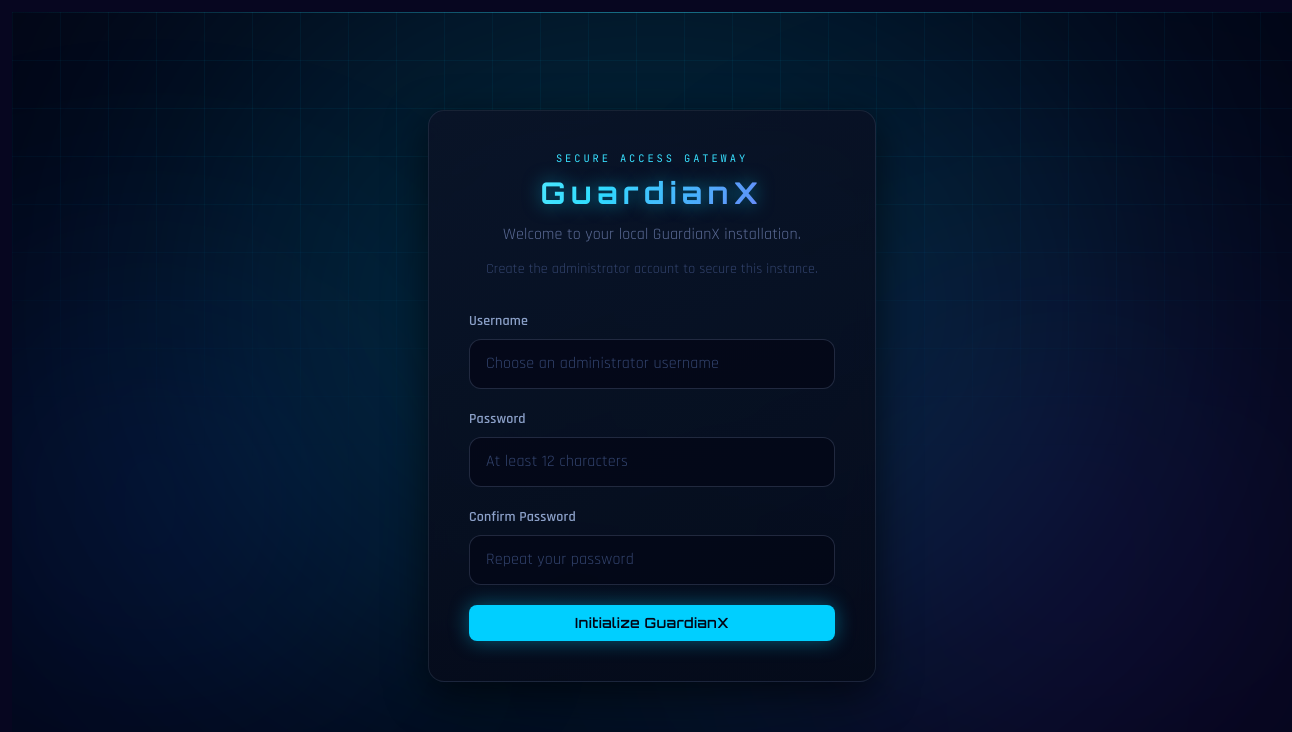
Test: Fresh-install Setup -> Login transition › leaves initialized=false and stays on Setup when setup fails
Check: the button "Initialize GuardianX" is shown, box top-left (469, 605), bottom-right (835, 641)
Type "release-admin" into the field labelled "Username" at [652, 364], box top-left (469, 339), bottom-right (835, 389)
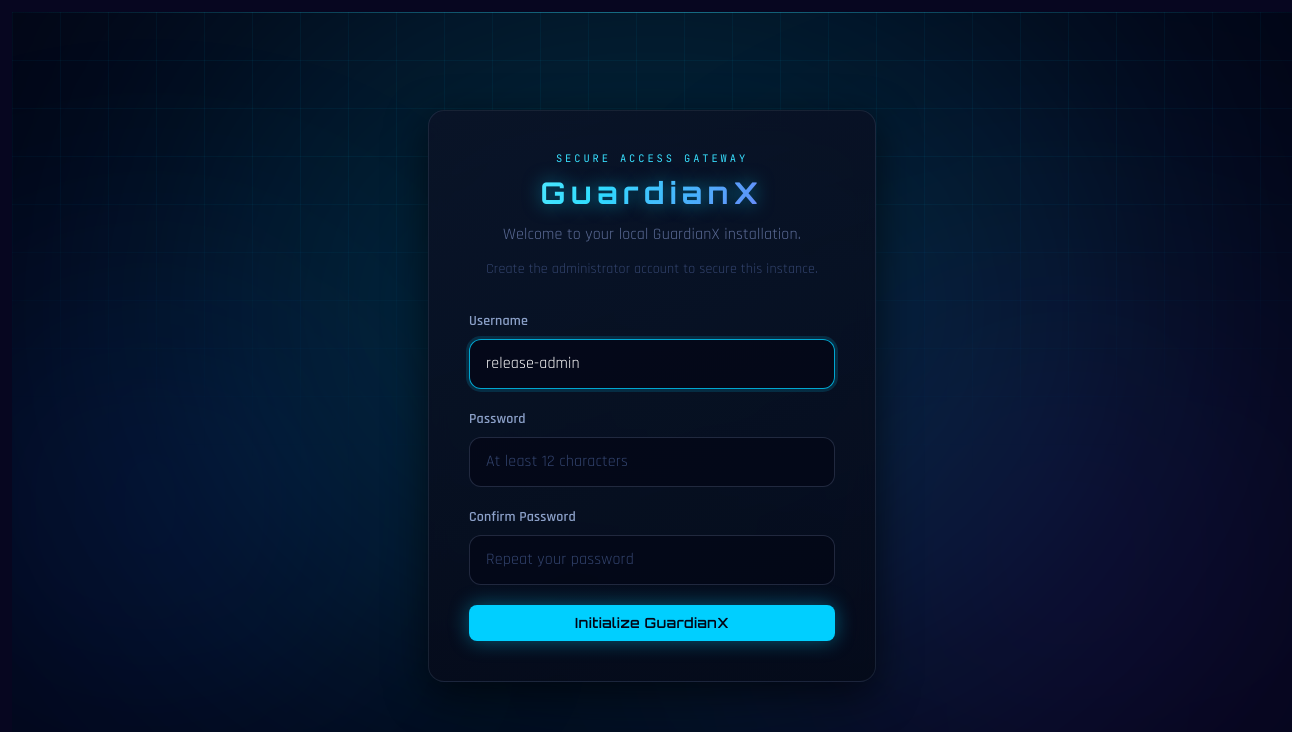
Type "Sup3rStrongPassword1!" into the password field labelled "Password" at [652, 462], box top-left (469, 437), bottom-right (835, 487)
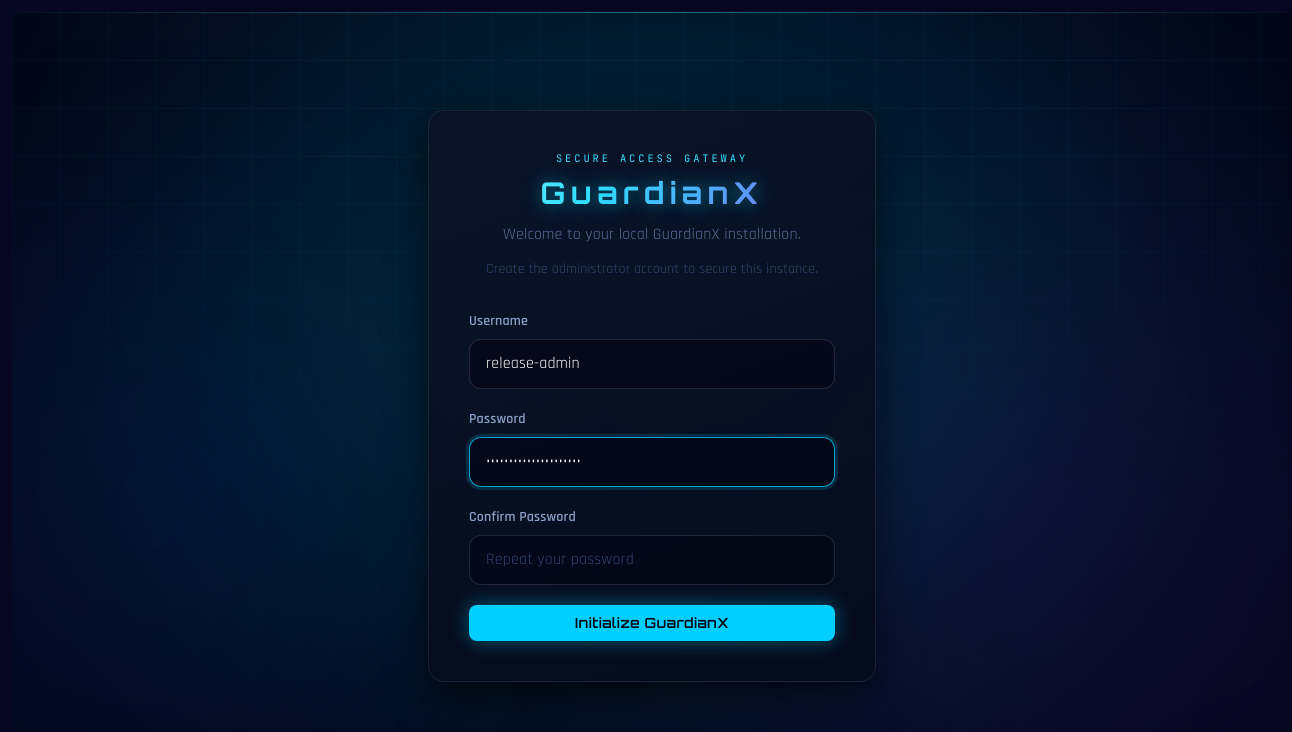
Type "Sup3rStrongPassword1!" into the password field labelled "Confirm Password" at [652, 560], box top-left (469, 535), bottom-right (835, 585)
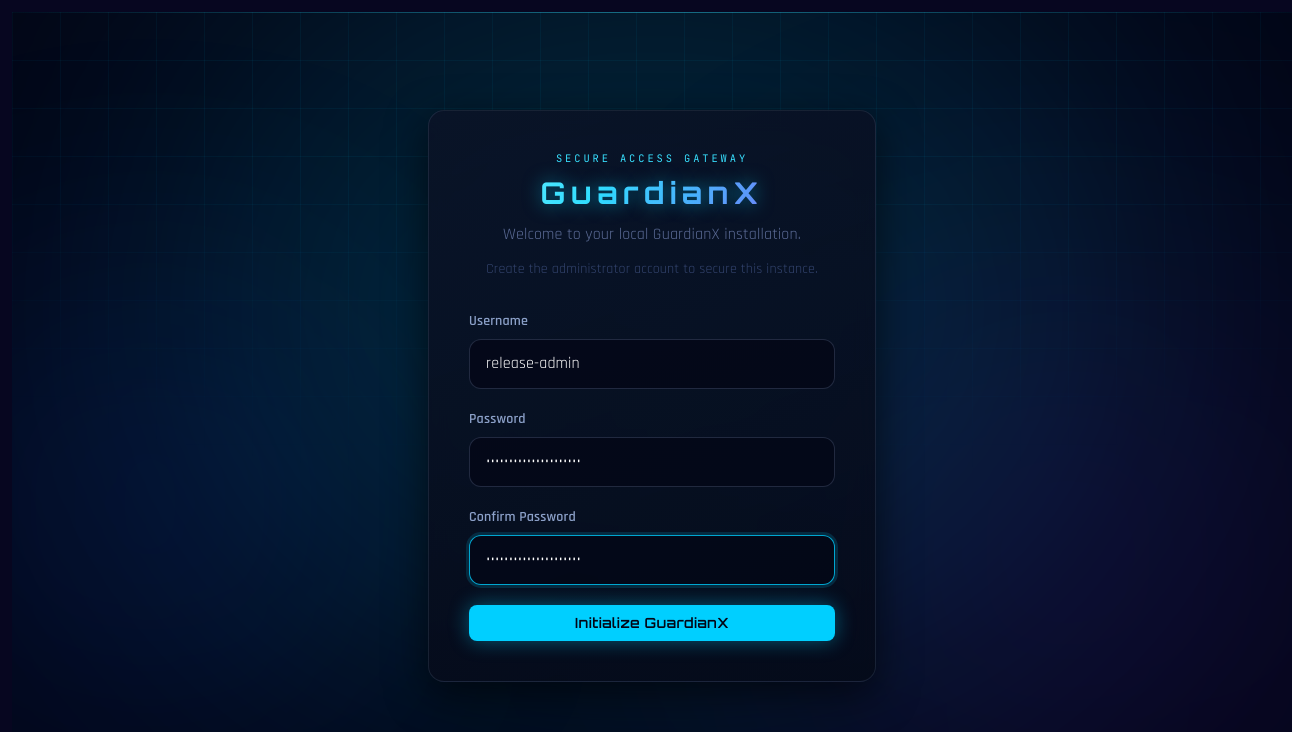
Click the button "Initialize GuardianX" at [652, 623], box top-left (469, 605), bottom-right (835, 641)
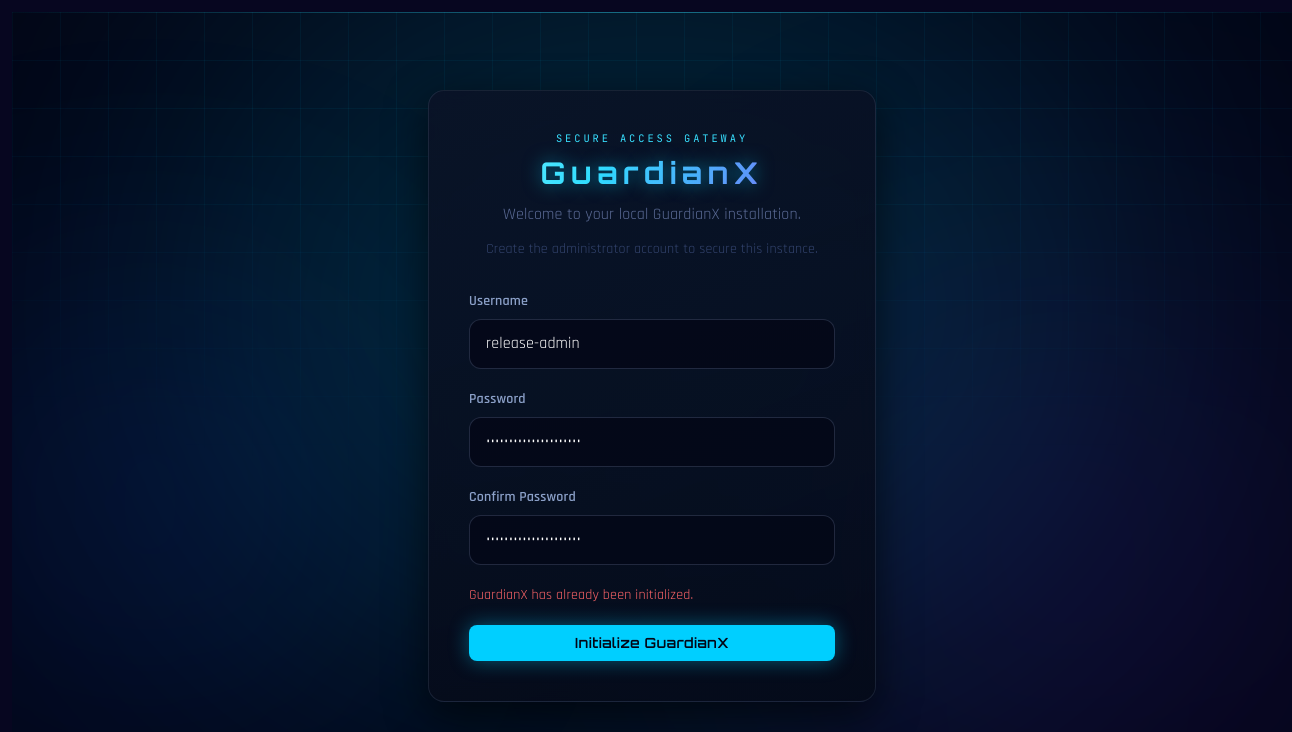
Check: the button "Initialize GuardianX" is shown, box top-left (469, 625), bottom-right (835, 661)
Check: the text "GuardianX has already been initialized." is shown, box top-left (469, 586), bottom-right (693, 604)
